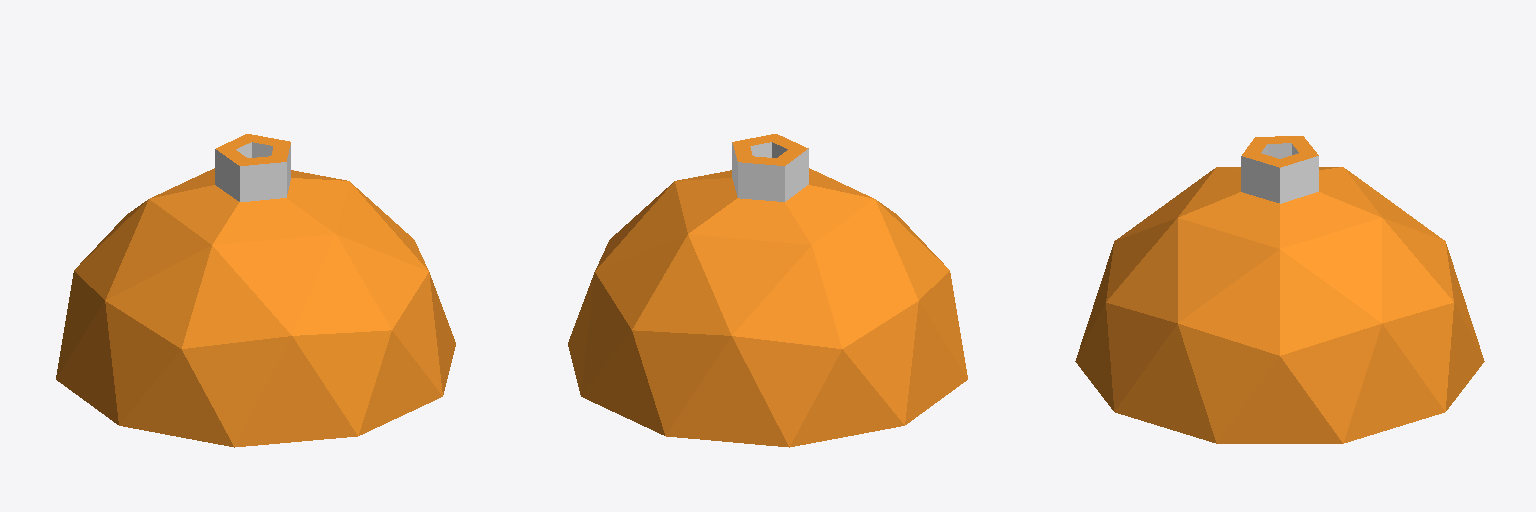
3 renders of one model, left to right at view 1: azimuth 30°, elevation 25°; view 2: azimuth 150°, elevation 25°; view 3: azimuth 270°, elevation 25°, orthographic.
Visible parts, largest first — view 1: Icosphere; view 2: Icosphere; view 3: Icosphere.
Boxes of the visible parts, <box> form: Icosphere: <box>56,134,455,447</box>; Icosphere: <box>568,134,967,447</box>; Icosphere: <box>1075,136,1484,443</box>.
Bounding box in the file's own units: 1.9 × 1.14 × 2.
1 materials, 1 textured.